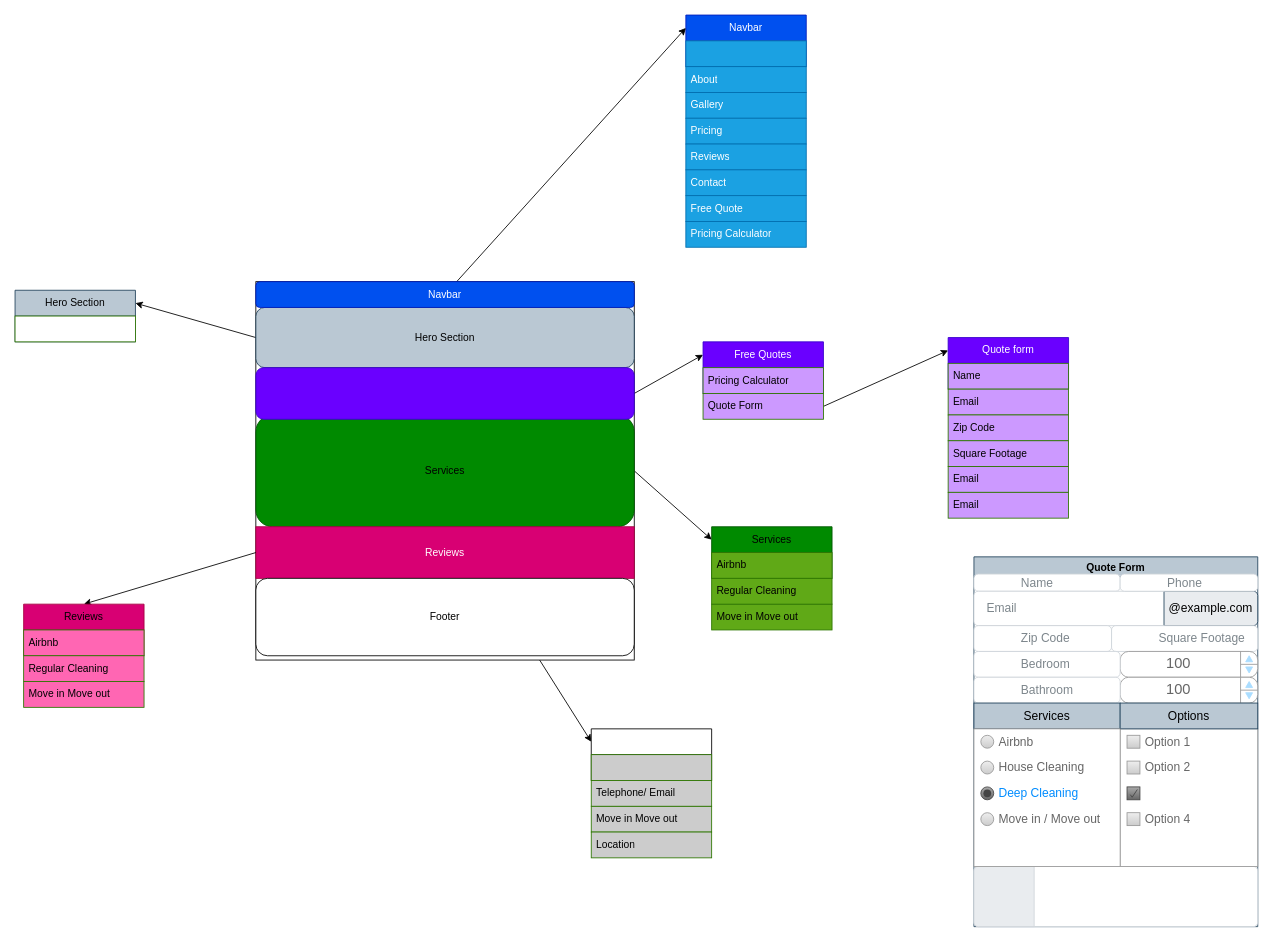
The diagram is 1273 pixels wide and 942 high, and some of its shapes have lost their labels. The centre of each missing label's shape, as x and y in pixels:
"Additional Message" goes at (1003,896).
"Contact US form" goes at (651,767).
"Get Free Quote" goes at (444,393).
"Home" goes at (745,53).
"Logo" goes at (74,328).
"Option 3" goes at (1133,793).
